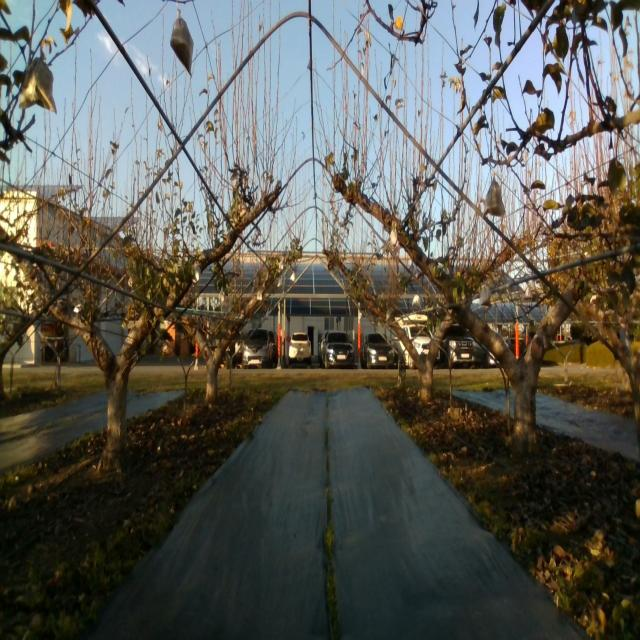pearbags: (19, 58, 58, 114), (170, 18, 193, 76), (484, 180, 505, 218), (479, 286, 492, 306)
